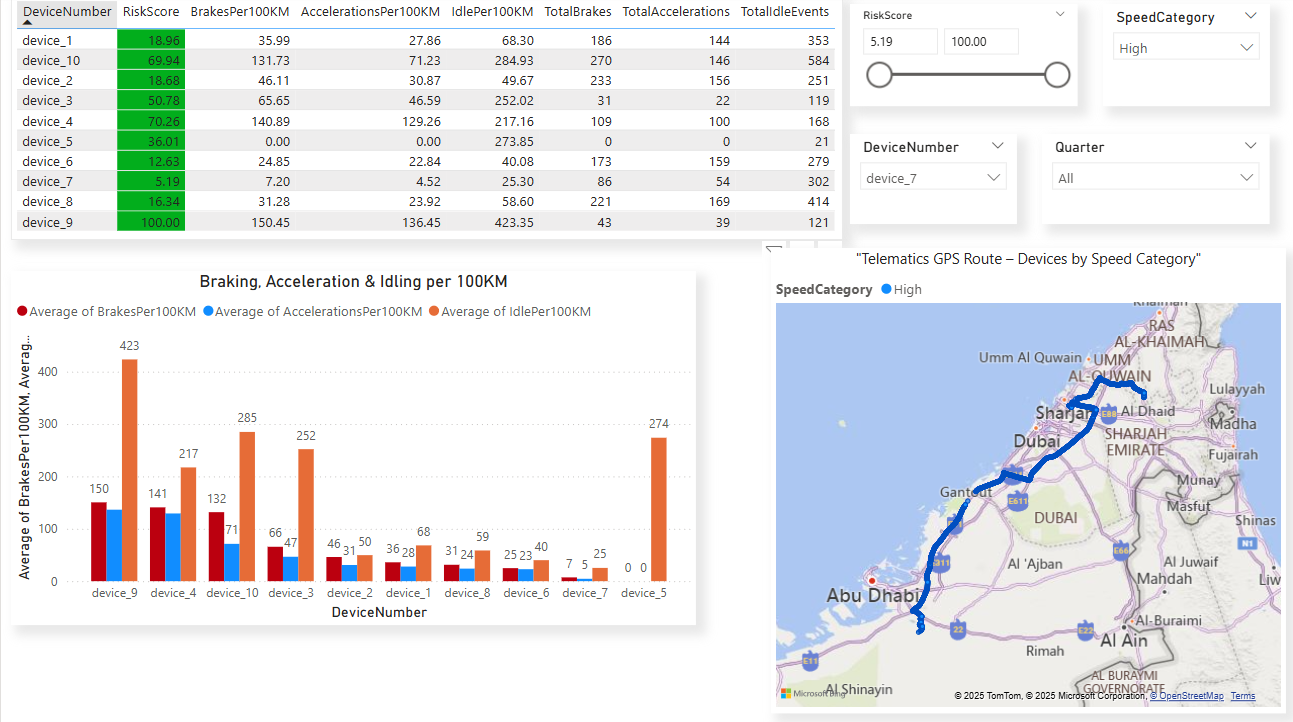

Layout of this report page (visuals, bound fields, positions):
{"tool":"powerbi","page":{"name":"Driver Behavior Insights","canvas":[1280,720],"ordinal":2},"visuals":[{"type":"tableEx","fields":{"Values":["DriverRiskSummary.DeviceNumber","DriverRiskSummary.RiskScore","DriverRiskSummary.BrakesPer100KM","DriverRiskSummary.AccelerationsPer100KM","DriverRiskSummary.IdlePer100KM","DriverRiskSummary.TotalBrakes","DriverRiskSummary.TotalAccelerations","DriverRiskSummary.TotalIdleEvents"]},"box":[9.9,0,822.4,241.2],"z":0},{"type":"clusteredColumnChart","title":"Braking, Acceleration & Idling per 100KM","fields":{"Category":["DriverRiskSummary.DeviceNumber"],"Y":["Avg(DriverRiskSummary.BrakesPer100KM)","Avg(DriverRiskSummary.AccelerationsPer100KM)","Avg(DriverRiskSummary.IdlePer100KM)"]},"box":[9.9,271.8,677.1,349.9],"z":1000},{"type":"map","title":"\"Telematics GPS Route – Devices by Speed Category\"","fields":{"X":["TelemetryData.Longitude"],"Y":["TelemetryData.Latitude"],"Size":["CountNonNull(DriverRiskSummary.RiskScore)"],"Series":["TelemetryData.SpeedCategory"]},"box":[761.1,249.1,509,459.6],"z":2000},{"type":"slicer","fields":{"Values":["TelemetryData.SpeedCategory"]},"box":[1089.2,7.9,165.1,100.8],"z":3000},{"type":"slicer","fields":{"Values":["TelemetryData.DeviceNumber"]},"box":[839.2,136.4,165.1,89],"z":4000},{"type":"slicer","fields":{"Values":["TelemetryData.TimeUtc.Variation.Date Hierarchy.Quarter"]},"box":[1028.9,136.4,225.4,89],"z":5000},{"type":"slicer","fields":{"Values":["DriverRiskSummary.RiskScore"]},"box":[839.2,7.9,225.4,100.8],"z":6000}]}

Visuals, with their boxes in screenshot pixels (x1, y1, x2, y2), scaled from the page's 1280x720 canvas onto the 1293x722 screenshot:
tableEx - DriverRiskSummary.DeviceNumber x DriverRiskSummary.RiskScore: box=[10, 0, 841, 242]
"Braking, Acceleration & Idling per 100KM" clusteredColumnChart: box=[10, 273, 694, 623]
""Telematics GPS Route – Devices by Speed Category"" map: box=[769, 250, 1283, 711]
slicer - TelemetryData.SpeedCategory: box=[1100, 8, 1267, 109]
slicer - TelemetryData.DeviceNumber: box=[848, 137, 1014, 226]
slicer - TelemetryData.TimeUtc.Variation.Date Hierarchy.Quarter: box=[1039, 137, 1267, 226]
slicer - DriverRiskSummary.RiskScore: box=[848, 8, 1075, 109]
